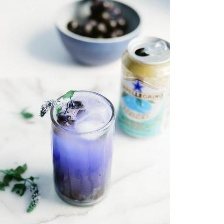can: (114, 30, 183, 142)
glass: (46, 88, 116, 207)
paper_cup: (54, 0, 146, 66)
